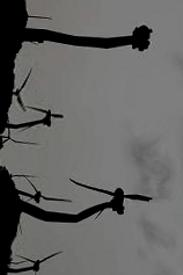faulty: (59, 174, 159, 229)
